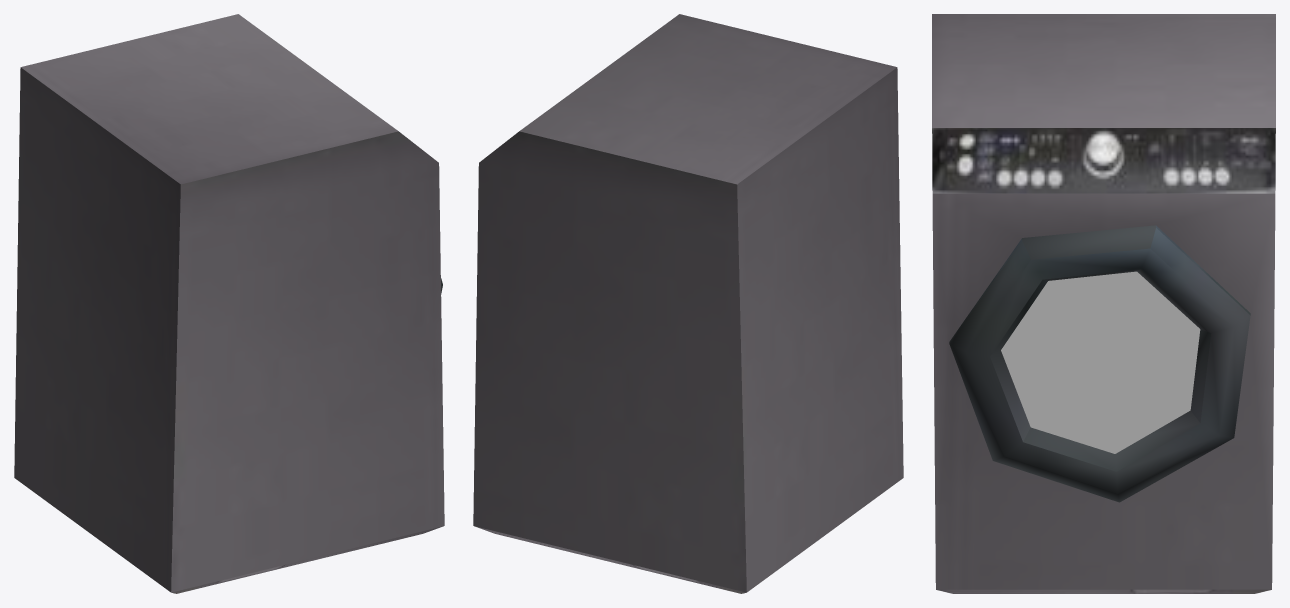
The model's file is washing_machine.glb.
3 renders of one model, left to right at view 1: azimuth 30°, elevation 25°; view 2: azimuth 150°, elevation 25°; view 3: azimuth 270°, elevation 25°, orthographic. The views are drawn at different scales.
Parts seen in each view (by area): view 1: Washing_machine; view 2: Washing_machine; view 3: Washing_machine, Washing_machine_d.
Part boxes in pixels (bbox=[...]): Washing_machine: bbox=[14, 14, 444, 593]; Washing_machine: bbox=[473, 14, 903, 593]; Washing_machine: bbox=[932, 14, 1275, 593]; Washing_machine_d: bbox=[949, 225, 1250, 502].
Size of the model in its own units: 0.8472 by 1.17 by 0.8146.
2 materials, 1 textured.
